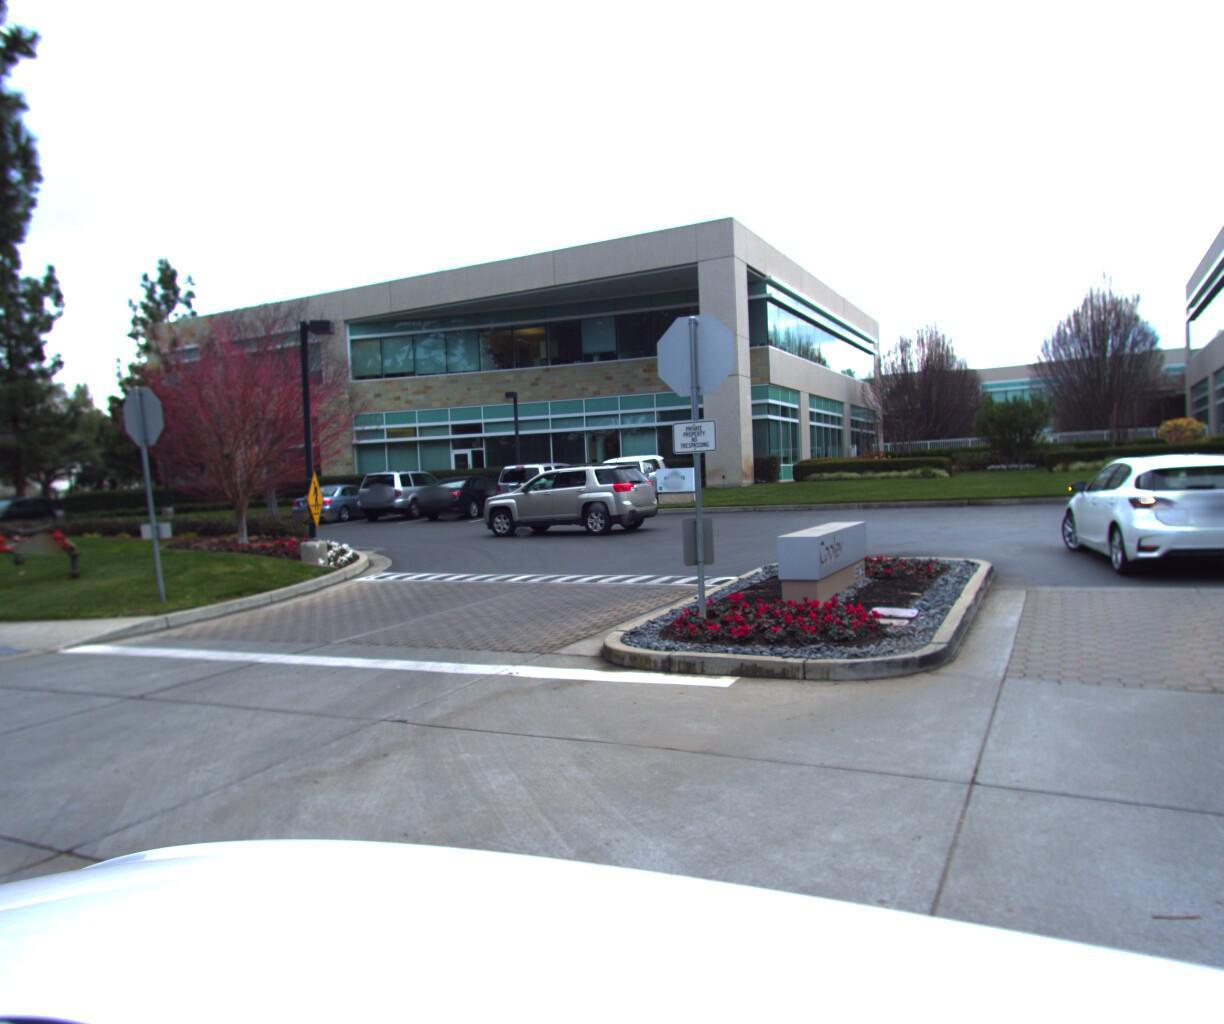car: (1049, 443, 1224, 580)
